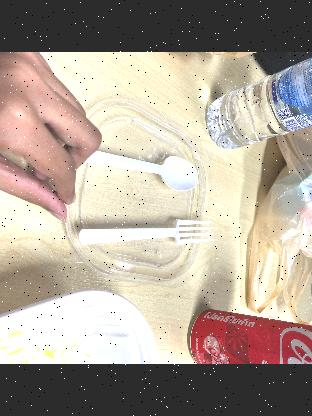Others: (85, 151, 203, 197), (69, 218, 219, 246)
